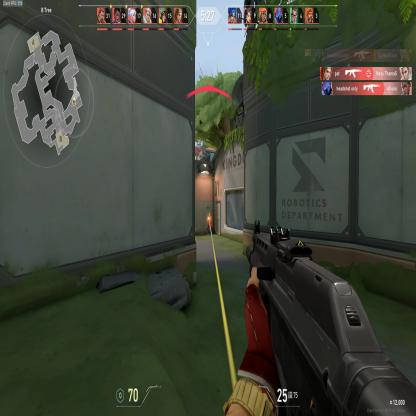enemy: (206, 211, 213, 235)
